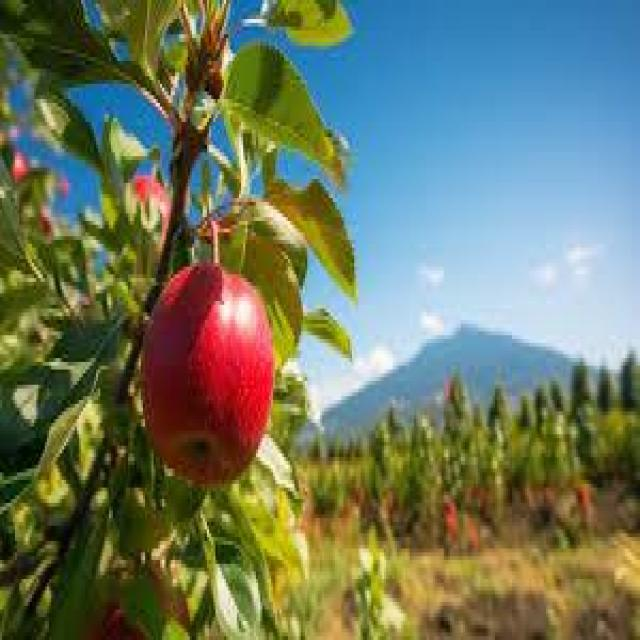fruit: (135, 163, 277, 487), (81, 558, 183, 638), (131, 174, 173, 252), (10, 149, 30, 182), (38, 207, 54, 238)
